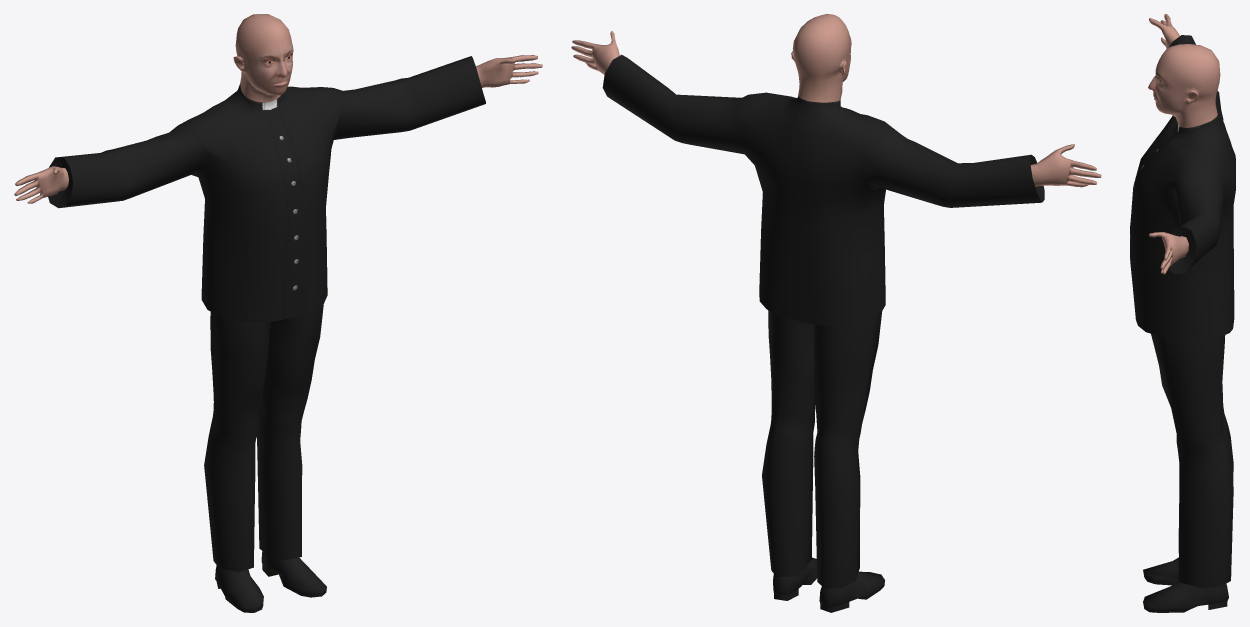
Rendered from priest.FBX.
3 renders of one model, left to right at view 1: azimuth 30°, elevation 25°; view 2: azimuth 150°, elevation 25°; view 3: azimuth 270°, elevation 25°, orthographic. The views are drawn at different scales.
Parts seen in each view (by area): view 1: ZBrush_defualt_group; view 2: ZBrush_defualt_group; view 3: ZBrush_defualt_group.
Boxes of the visible parts, box(x1,y1,x2,y2) form: ZBrush_defualt_group: box(14, 14, 542, 612); ZBrush_defualt_group: box(571, 14, 1101, 612); ZBrush_defualt_group: box(1130, 14, 1235, 612).
Size of the model in its own units: 8.36 by 8.63 by 1.52.
1 material, 1 textured.
